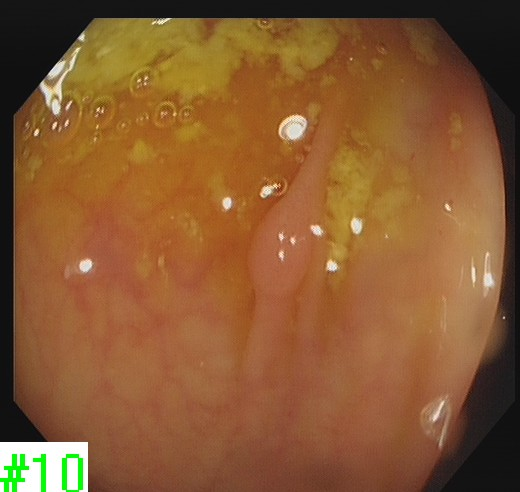adenoma: (243, 196, 314, 296)
